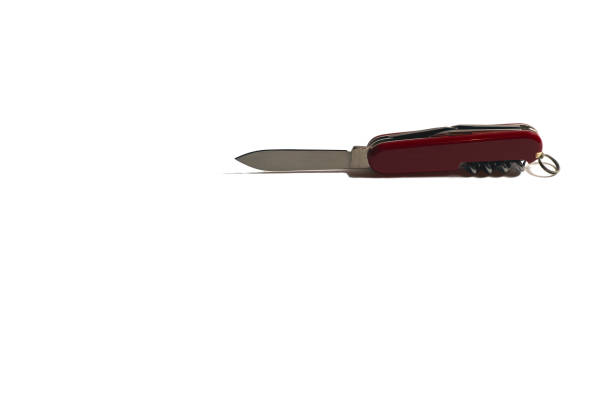knife: (232, 147, 354, 174)
